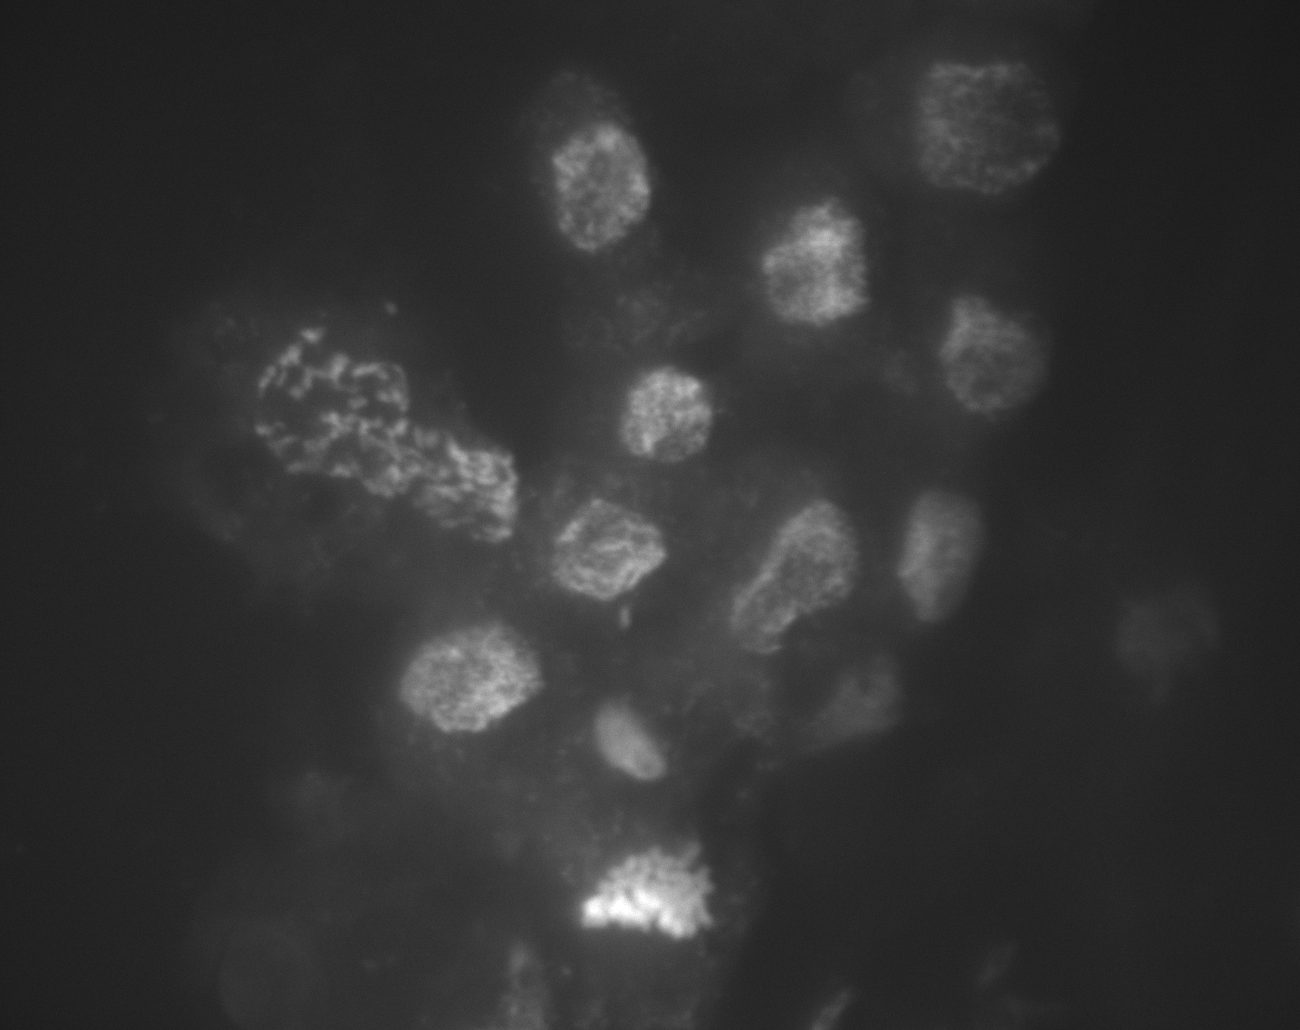Chromosomes: (231, 316, 478, 545)
Others: (454, 812, 841, 998), (1049, 504, 1274, 802), (498, 30, 671, 306), (868, 21, 1092, 232), (892, 268, 1074, 435), (366, 597, 558, 752), (548, 775, 737, 932), (732, 157, 894, 339), (549, 450, 713, 611), (661, 447, 817, 615), (591, 333, 751, 479)
